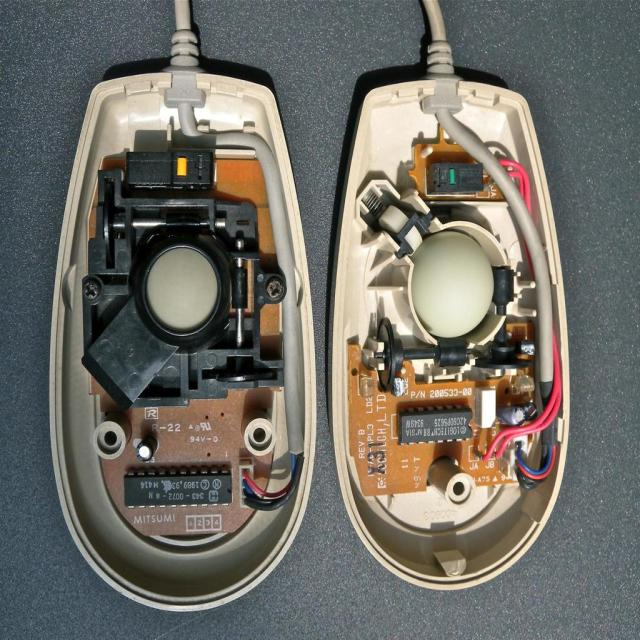Computer-mouse: (49, 61, 317, 612), (332, 76, 571, 590)
